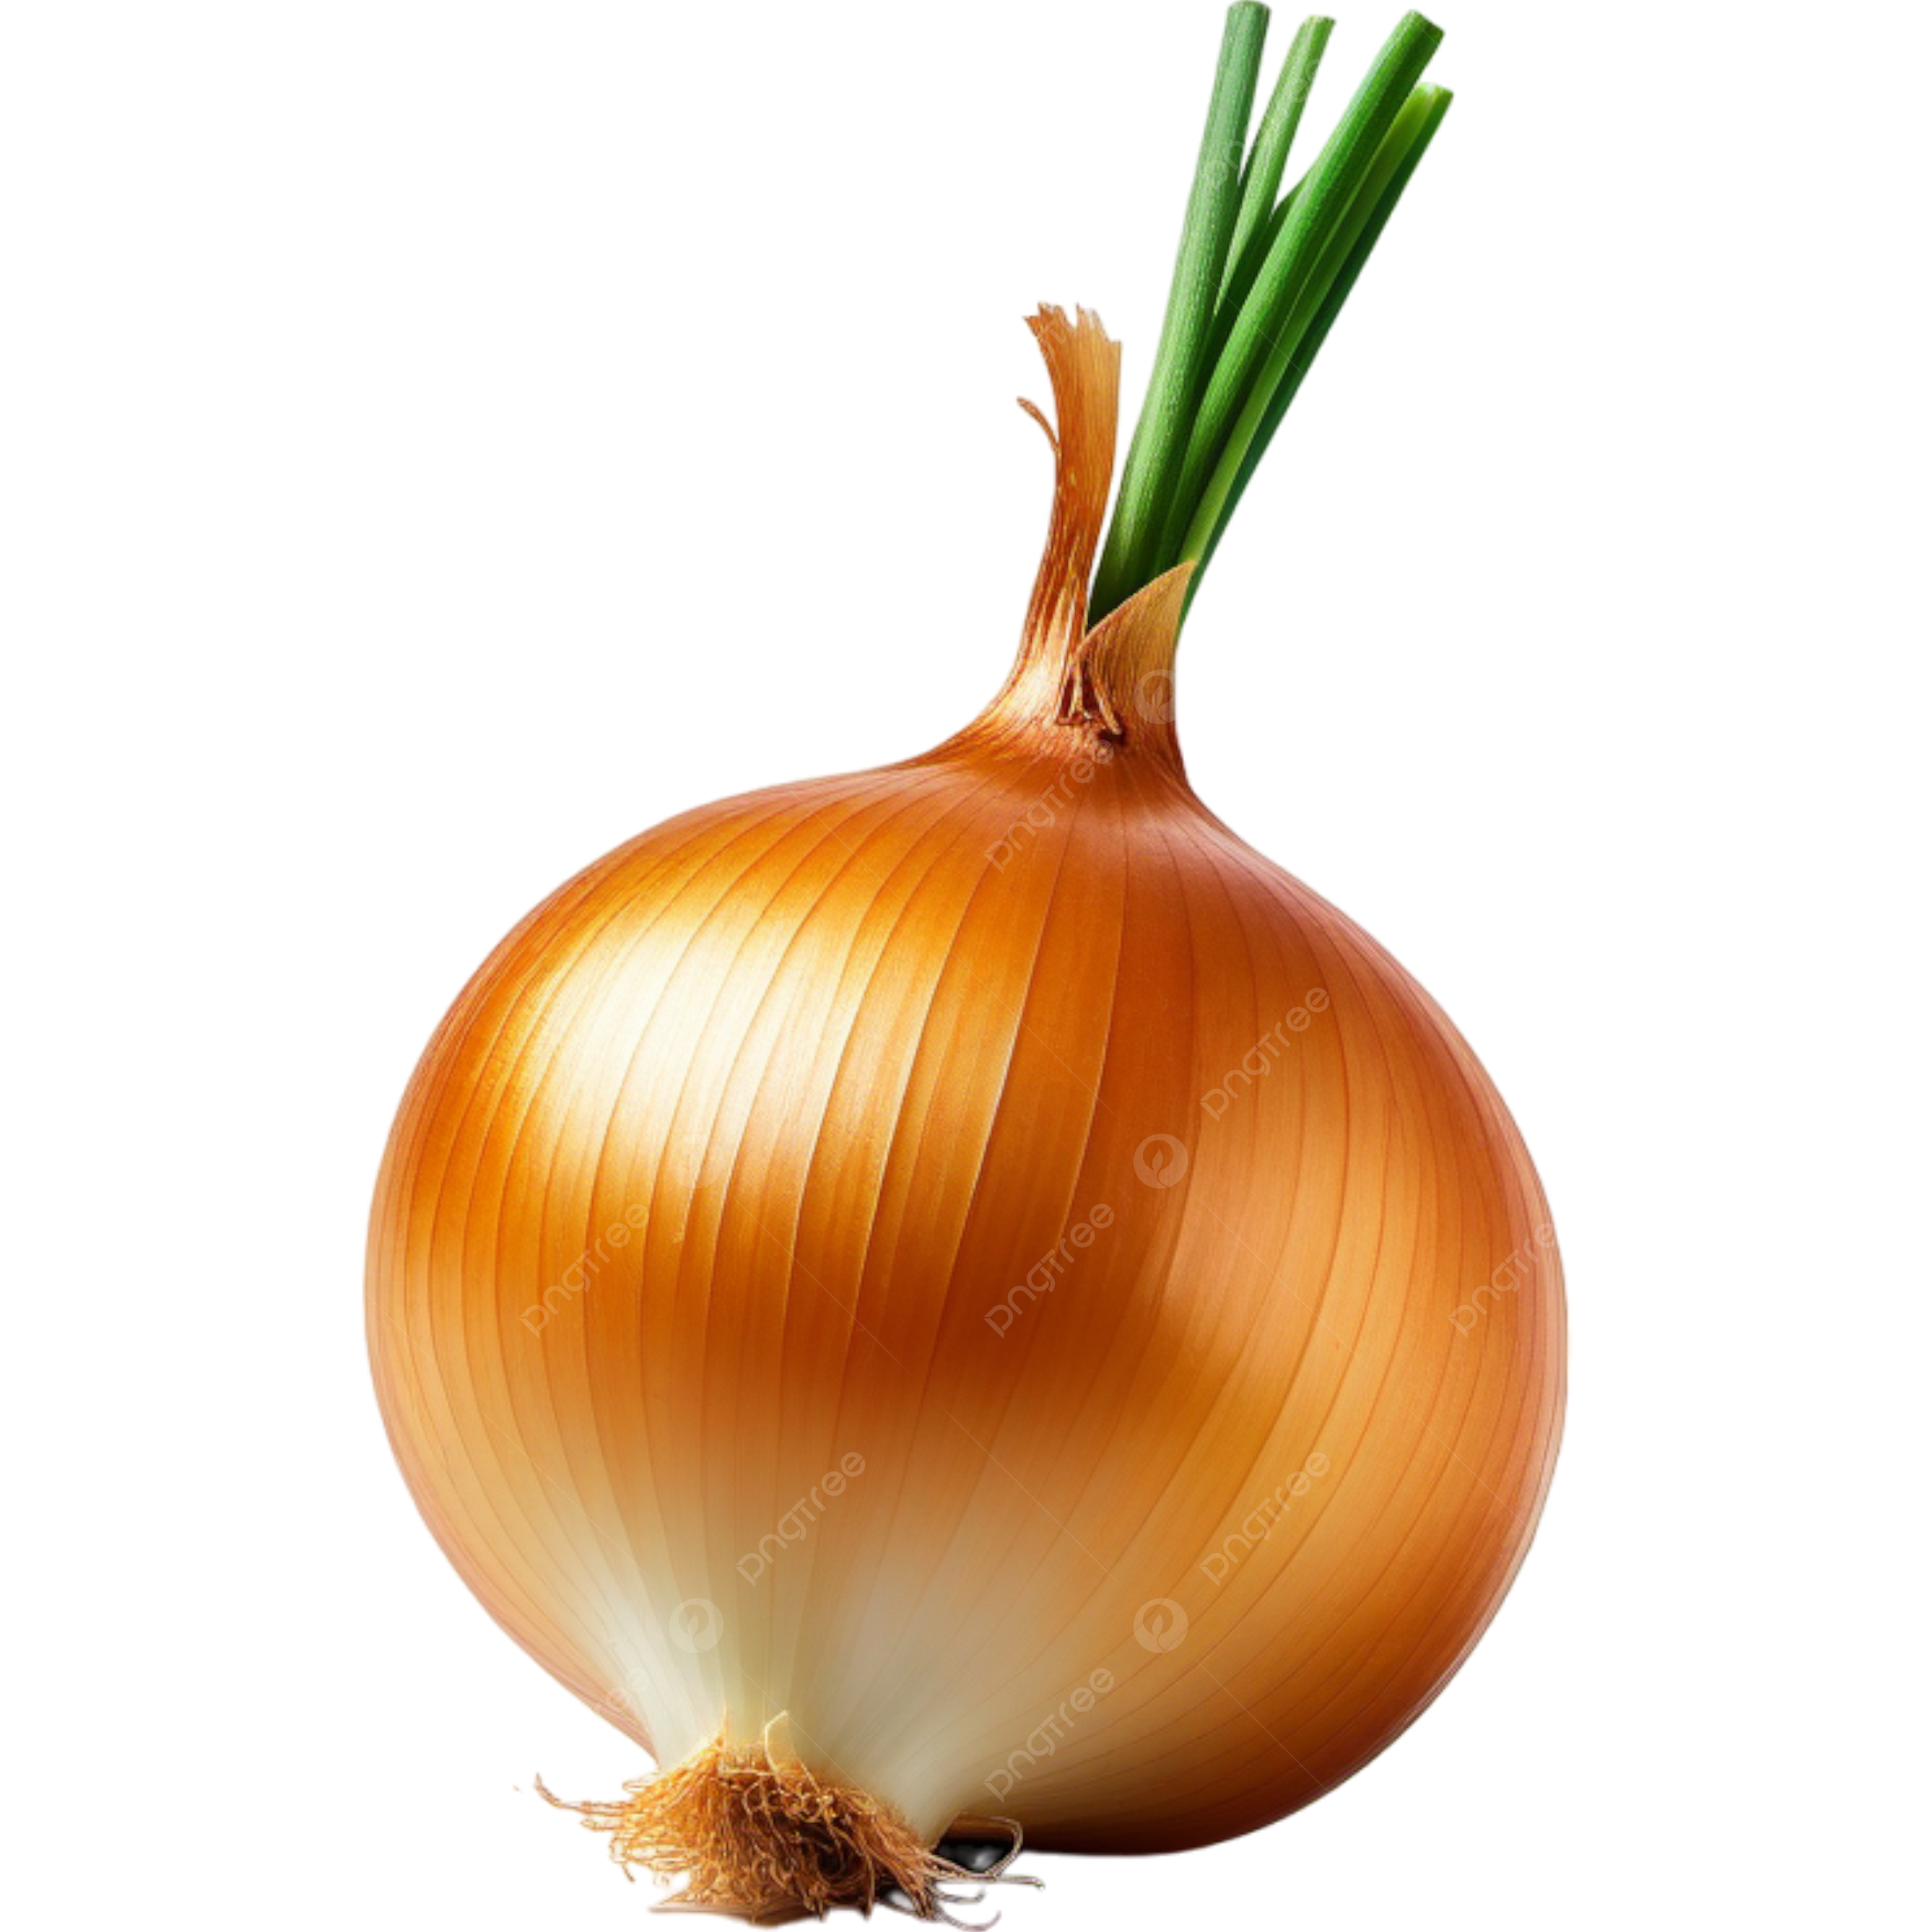onion: (193, 110, 1815, 1932)
